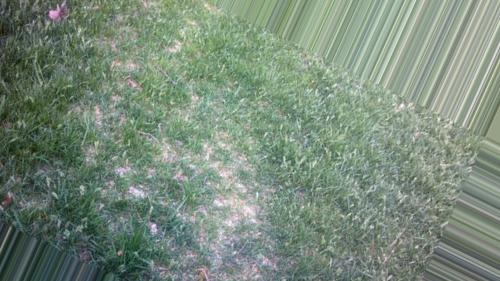patch: (178, 119, 258, 267), (111, 26, 175, 109), (109, 114, 152, 208), (179, 11, 210, 60)
